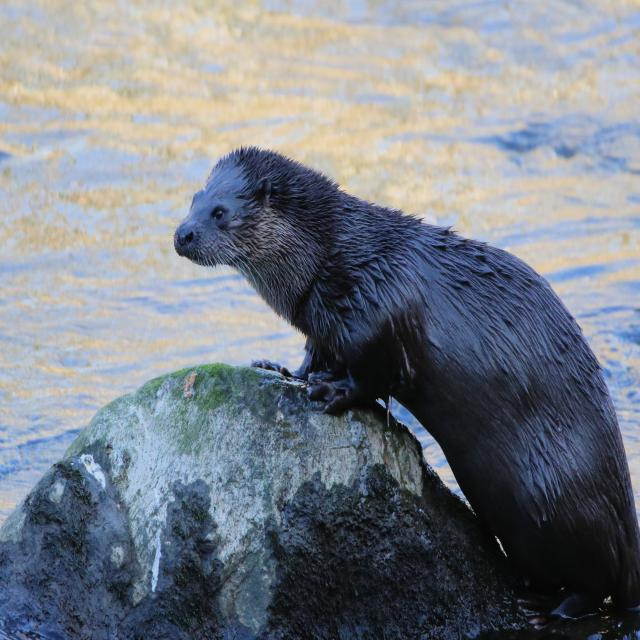otter: (177, 149, 640, 584)
